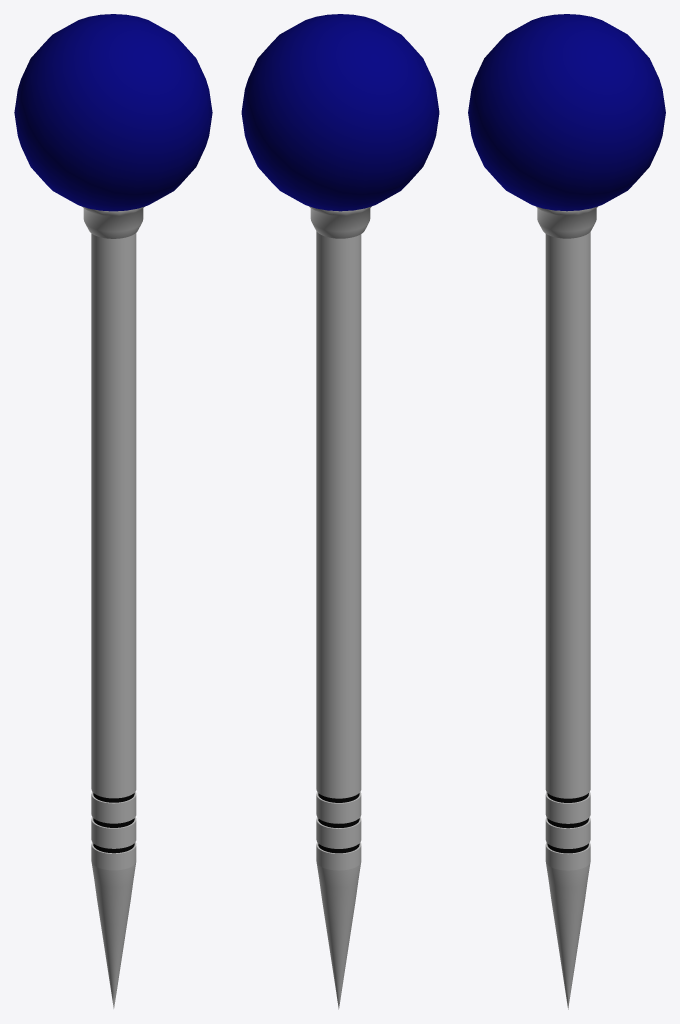
Rendered from NAVY.glb.
3 views of the same model, side by side, from view 1: azimuth 30°, elevation 25°; view 2: azimuth 150°, elevation 25°; view 3: azimuth 270°, elevation 25° (orthographic).
Parts seen in each view (by area): view 1: Needle, Sphere, Ball_Holder; view 2: Needle, Sphere, Ball_Holder; view 3: Needle, Sphere, Ball_Holder.
Part boxes in pixels (<box>): Needle: <box>91,233,136,1008</box>; Sphere: <box>14,14,212,211</box>; Ball_Holder: <box>82,206,144,238</box>; Needle: <box>316,231,361,1009</box>; Sphere: <box>241,14,439,211</box>; Ball_Holder: <box>309,206,371,238</box>; Needle: <box>545,232,590,1009</box>; Sphere: <box>468,14,665,211</box>; Ball_Holder: <box>536,206,597,238</box>.
Bounding box in the file's own units: 2.2 × 12.1 × 2.2.
